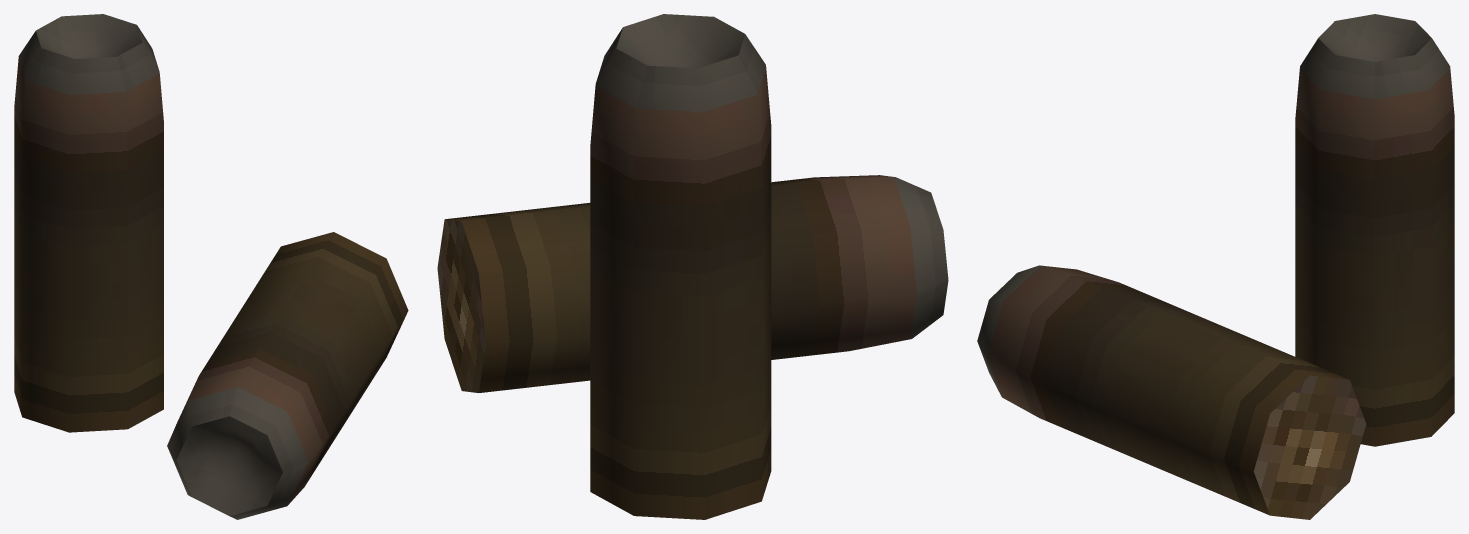
Rendered from ammo_pistol_loose_2pcs_mp_2.glb.
The picture shows the model from 3 angles, left to right: view 1: azimuth 30°, elevation 25°; view 2: azimuth 150°, elevation 25°; view 3: azimuth 270°, elevation 25°; orthographic projection. The views are drawn at different scales.
Parts seen in each view (by area): view 1: ammo_pistol_loose_2pcs_mp_2; view 2: ammo_pistol_loose_2pcs_mp_2; view 3: ammo_pistol_loose_2pcs_mp_2.
Part boxes in pixels (left/top/right/bottom): ammo_pistol_loose_2pcs_mp_2: left=14, top=14, right=408, bottom=519; ammo_pistol_loose_2pcs_mp_2: left=437, top=14, right=948, bottom=519; ammo_pistol_loose_2pcs_mp_2: left=977, top=14, right=1454, bottom=519.
Bounding box in the file's own units: 0.0308 × 0.0327 × 0.0378.
Materials: 1 (1 with a texture image).
